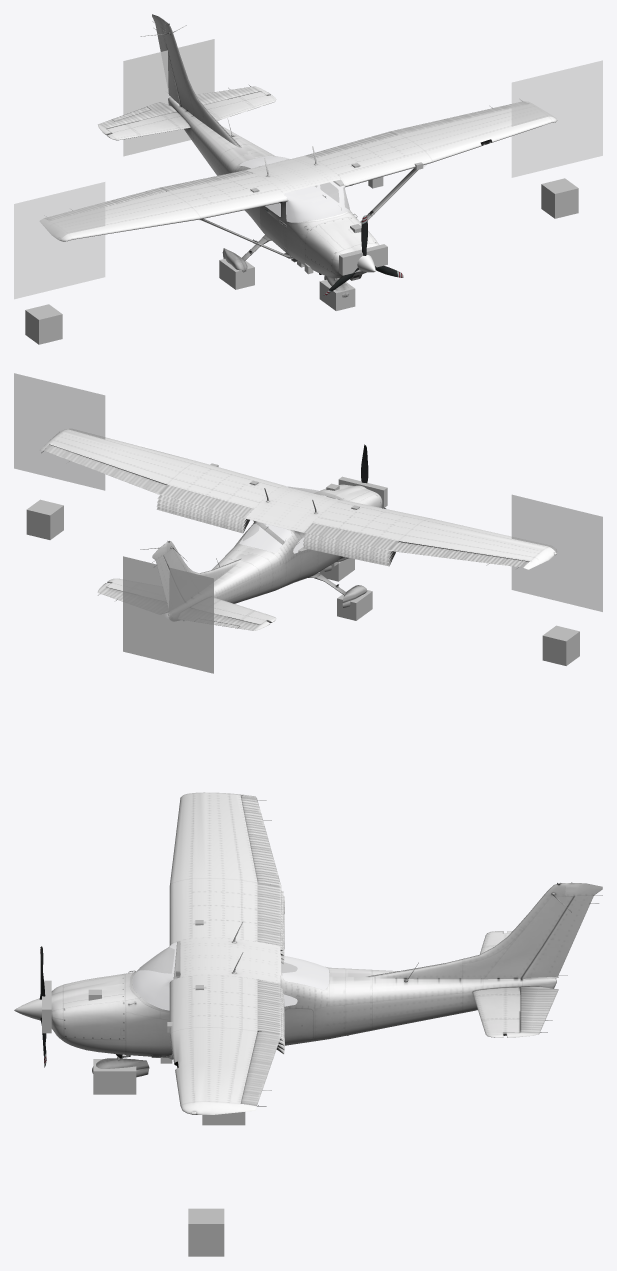
Rendered from blank.gltf.
3 views of the same model, one above another, from view 1: azimuth 30°, elevation 25°; view 2: azimuth 150°, elevation 25°; view 3: azimuth 270°, elevation 25° (orthographic). The views are drawn at different scales.
Visible parts, largest first — view 1: Exterior, XLive_2, Pose_flaps_0, XLive_3, XLive_0, Spin_0, XLive_1; view 2: Exterior, Pose_flaps_0, XLive_2, XLive_0, XLive_1, Pose_flaps_1, Pose_flaps_2, XLive_3, Pose_flaps_3, Pose_flaps_4; view 3: Exterior, Pose_flaps_0, XLive_3, XLive_1, XLive_0, XLive_2.
Boxes of the visible parts, box(x1,y1,x2,y2) form: Exterior: box(14, 22, 602, 344); XLive_2: box(98, 85, 270, 135); Pose_flaps_0: box(159, 131, 397, 191); XLive_3: box(152, 14, 180, 105); XLive_0: box(391, 101, 528, 134); Spin_0: box(324, 215, 403, 295); XLive_1: box(44, 188, 166, 220); Exterior: box(14, 373, 602, 673); Pose_flaps_0: box(158, 485, 398, 550); XLive_2: box(97, 583, 270, 630); XLive_0: box(41, 444, 166, 494); XLive_1: box(390, 542, 528, 568); Pose_flaps_1: box(157, 495, 393, 555); Pose_flaps_2: box(157, 499, 393, 559); XLive_3: box(152, 543, 183, 612); Pose_flaps_3: box(156, 503, 393, 563); Pose_flaps_4: box(156, 507, 395, 566); Exterior: box(14, 792, 574, 1256); Pose_flaps_0: box(257, 882, 281, 1034); XLive_3: box(521, 883, 602, 978); XLive_1: box(241, 796, 281, 886); XLive_0: box(240, 1032, 281, 1106); XLive_2: box(506, 931, 558, 1037).
Bounding box in the file's own units: 12.92 × 3.27 × 8.5.
13 materials, 8 textured.
